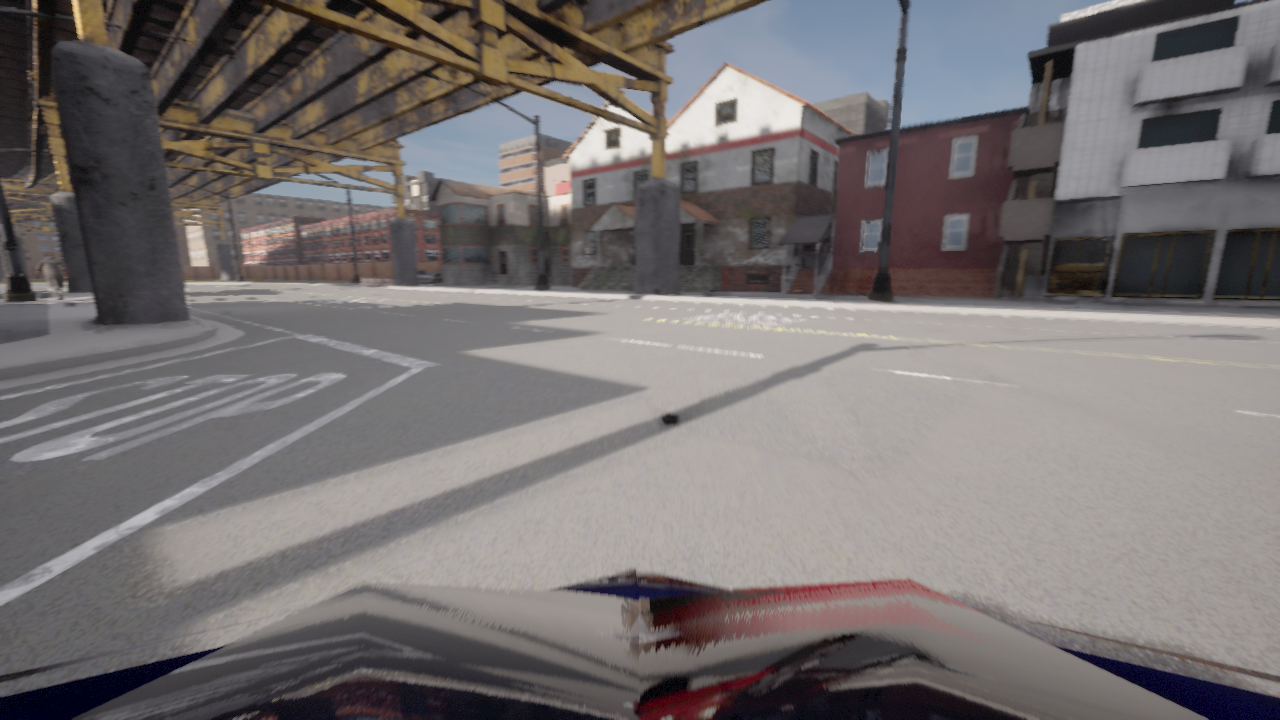cyclist: (0, 569, 1279, 719), (418, 270, 442, 283), (425, 270, 442, 283)
pedestrian: (36, 253, 67, 301)
